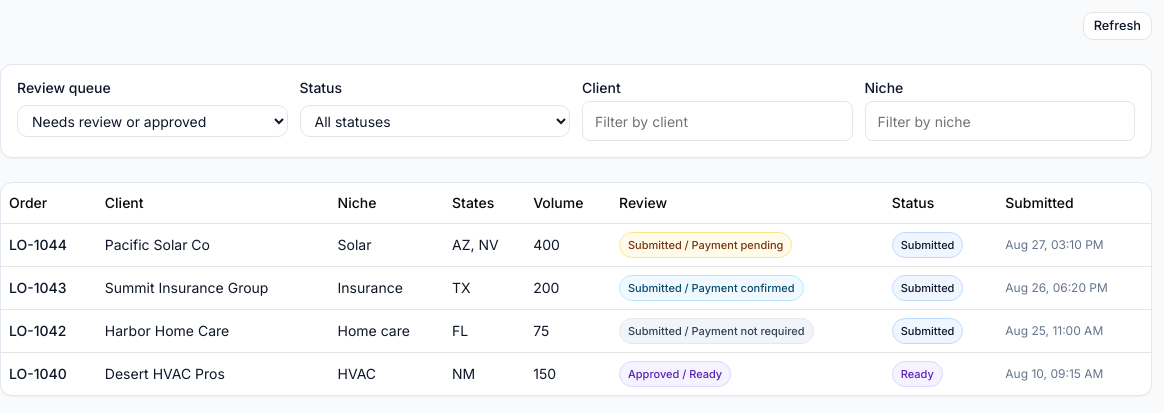
Test case: FoOrdersContent review queue › defaults to the Alex review queue and can isolate each payment state
Expected: the text "LO-1044" is shown, [1,223,97,266]
Expected: the text "LO-1043" is shown, [1,266,97,309]
Select "Submitted / Payment pending" in the dropdown labelled "Review queue" at {"x": 152, "y": 121}, box [17,105,288,137]
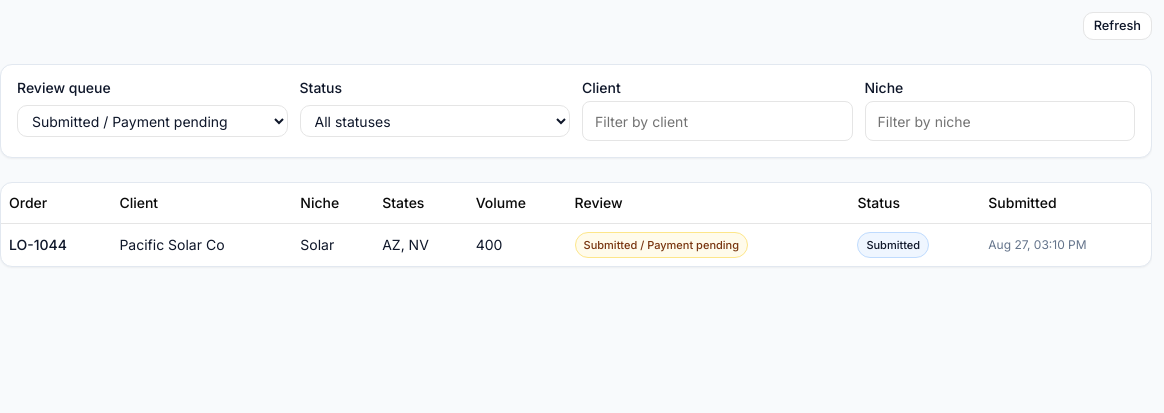
Expected: the text "LO-1044" is shown, [1,223,111,266]
Now the text "LO-1043" is gone
Select "Submitted / Payment confirmed" in the dropdown labelled "Review queue" at {"x": 152, "y": 121}, box [17,105,288,137]
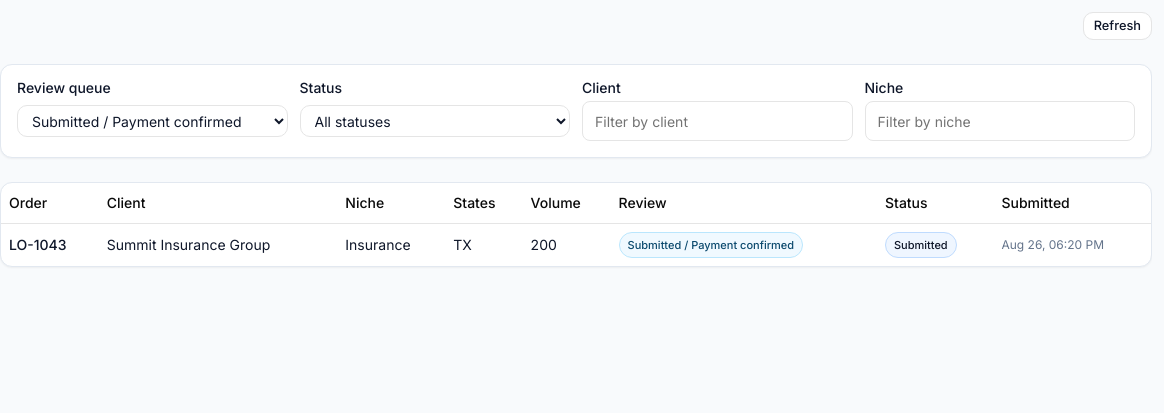
Now the text "LO-1043" is shown, box [1,223,99,266]
Now the text "LO-1044" is gone
Select "Submitted / Payment not required" in the dropdown labelled "Review queue" at {"x": 152, "y": 121}, box [17,105,288,137]
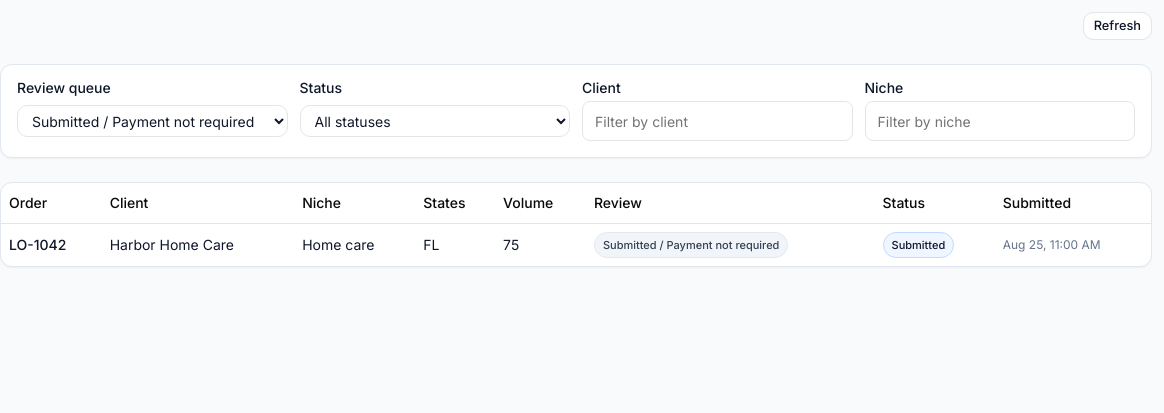
Now the text "LO-1042" is shown, box [1,223,102,266]
Select "Approved / Ready" in the dropdown labelled "Review queue" at {"x": 152, "y": 121}, box [17,105,288,137]
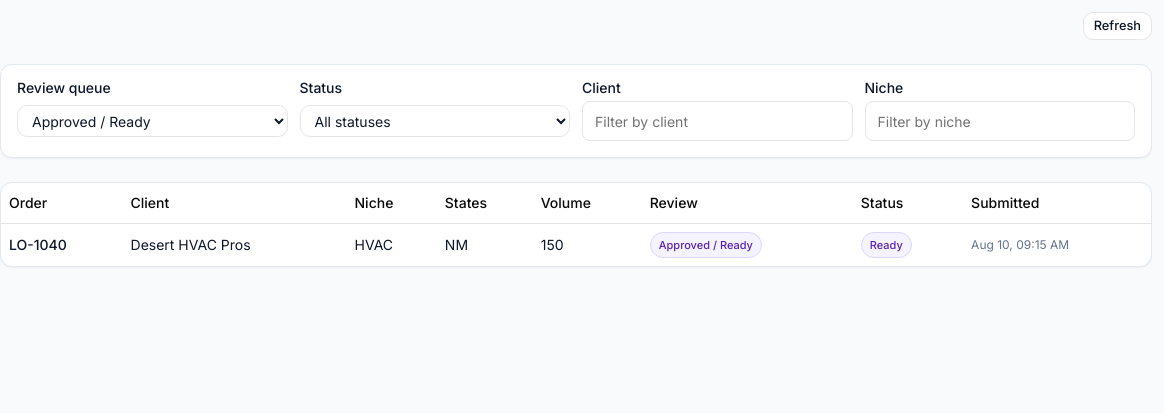
Expected: the text "LO-1044" is not shown
Now the text "LO-1040" is shown, box [1,223,122,266]
Now the row with test id "fo-order-row-ORD-1040" is shown, box [1,223,1151,266]
